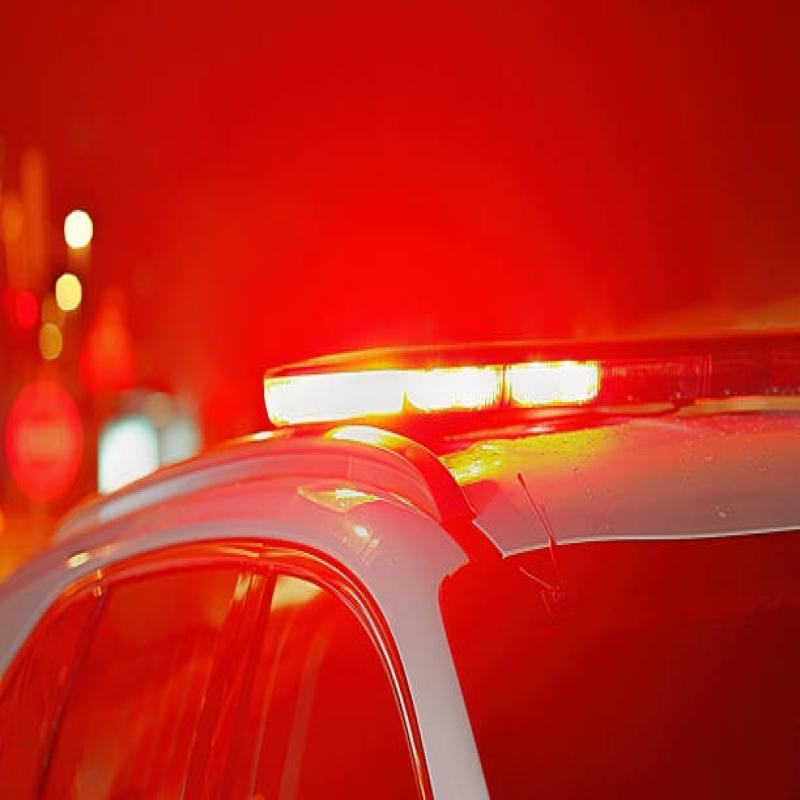AmbulanceSiren: (245, 303, 658, 457)
